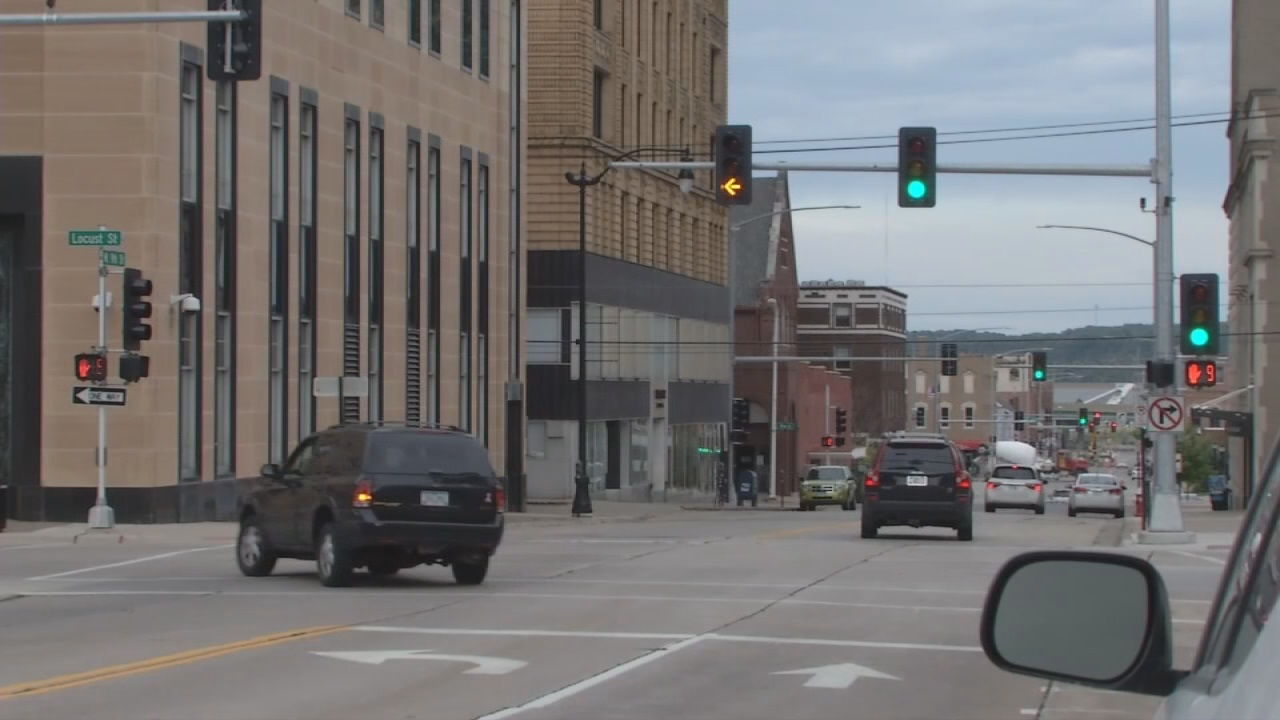traffic_light: (1178, 272, 1221, 358), (897, 125, 938, 209), (714, 124, 754, 207)
